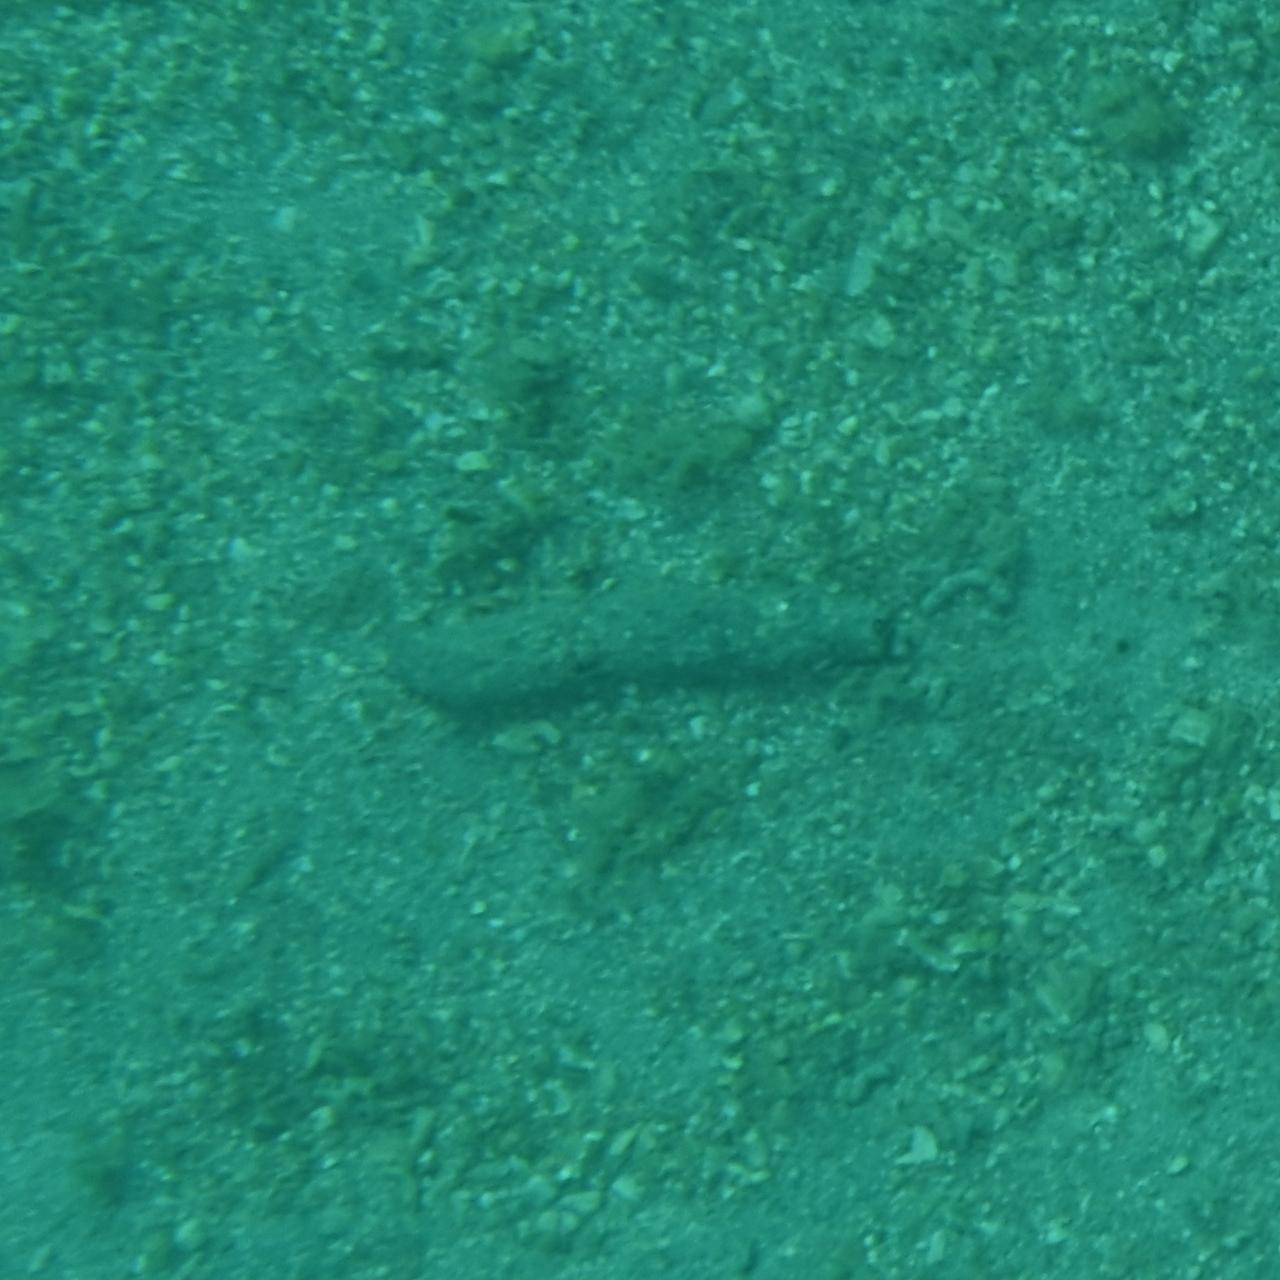Holothuria tubulosa: (380, 582, 900, 698)
